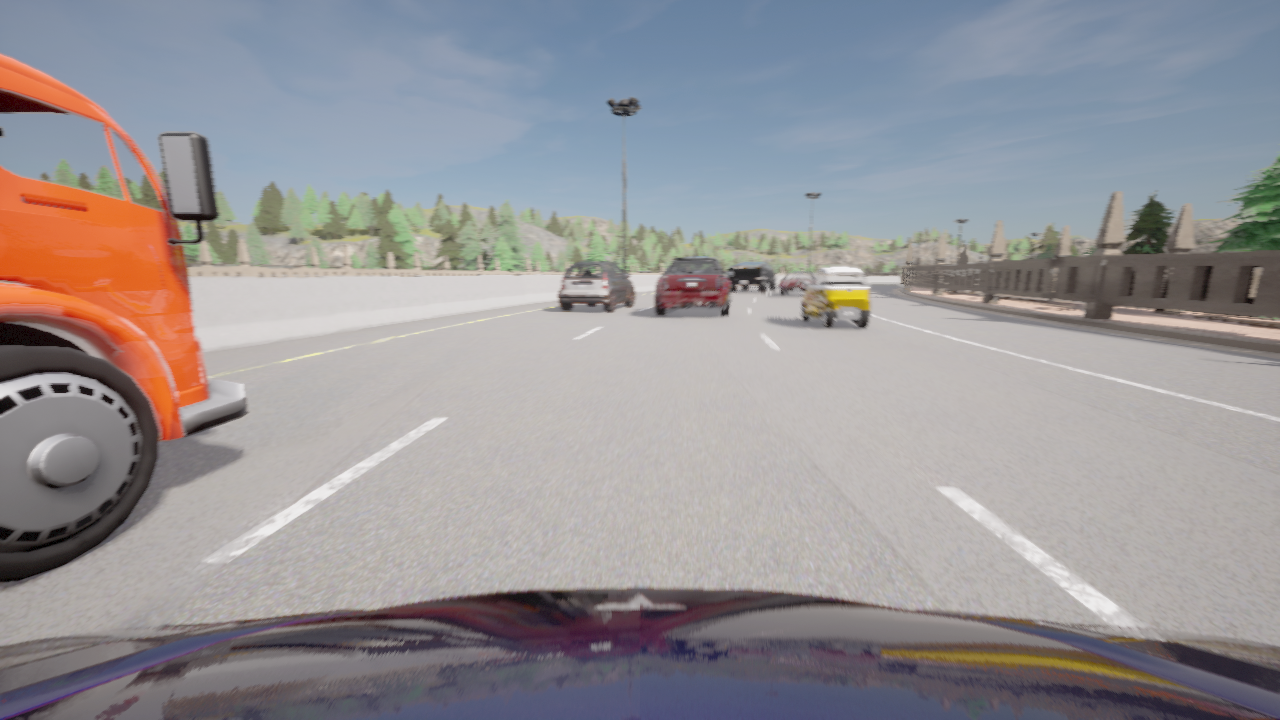cyclist: (0, 588, 1279, 719), (655, 253, 732, 316), (801, 266, 870, 328), (558, 261, 634, 311), (728, 261, 776, 292), (779, 272, 813, 295)
